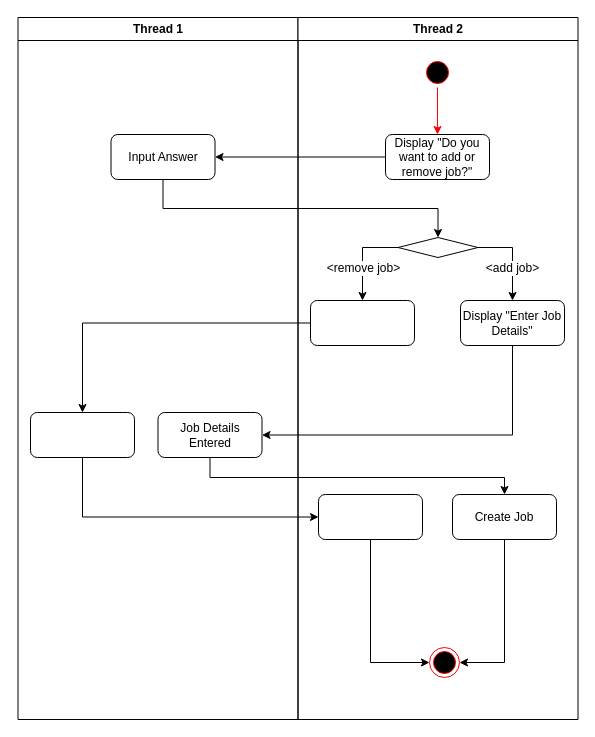
Some shapes in this 595 by 737 pixel diagram are drawn without their labels. The centre of each missing label's shape, as x and y in pixels:
Display "Select job to be removed": [362,323]
Job Selected: [82,435]
Remove Job: [370,517]
